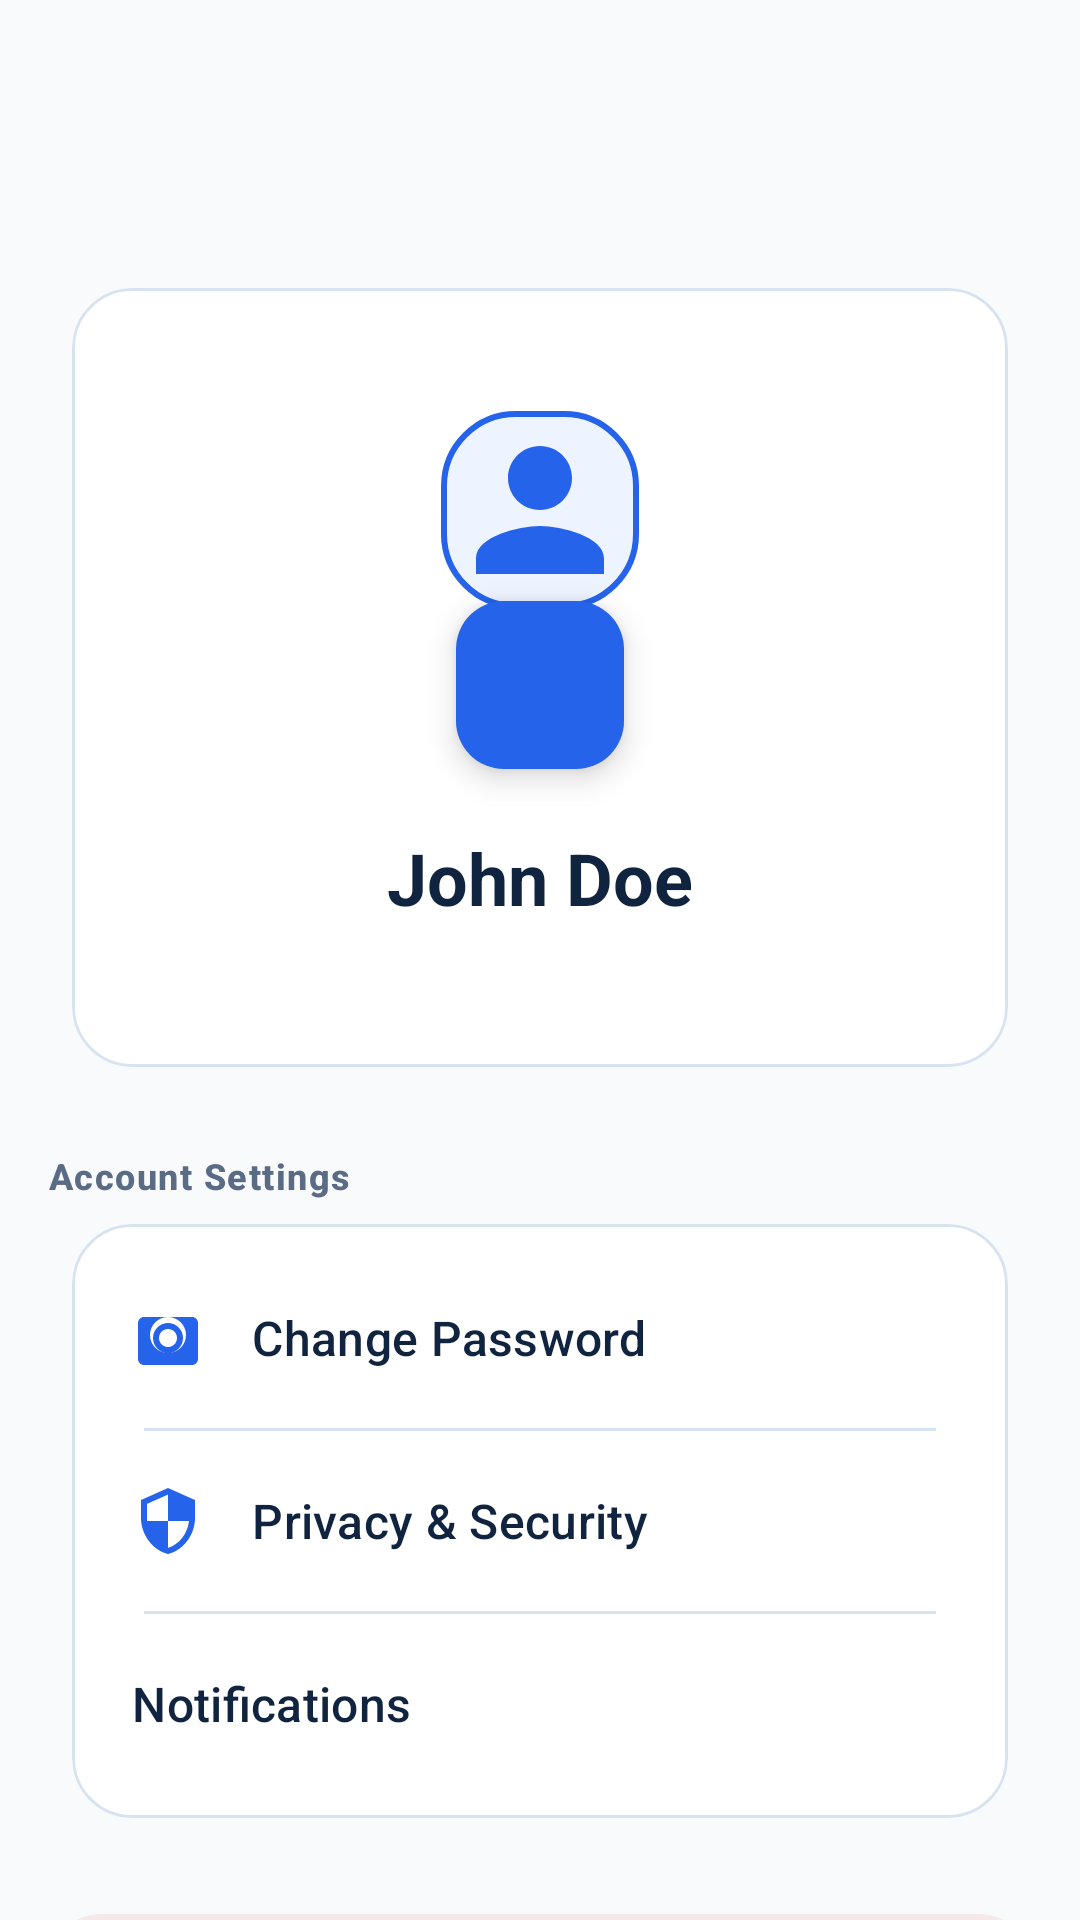

Icon bounding boxes for this 1080×1920 phone screenshot, format detection(x1, y1, x2, y2):
person: detection(441, 411, 639, 660)
